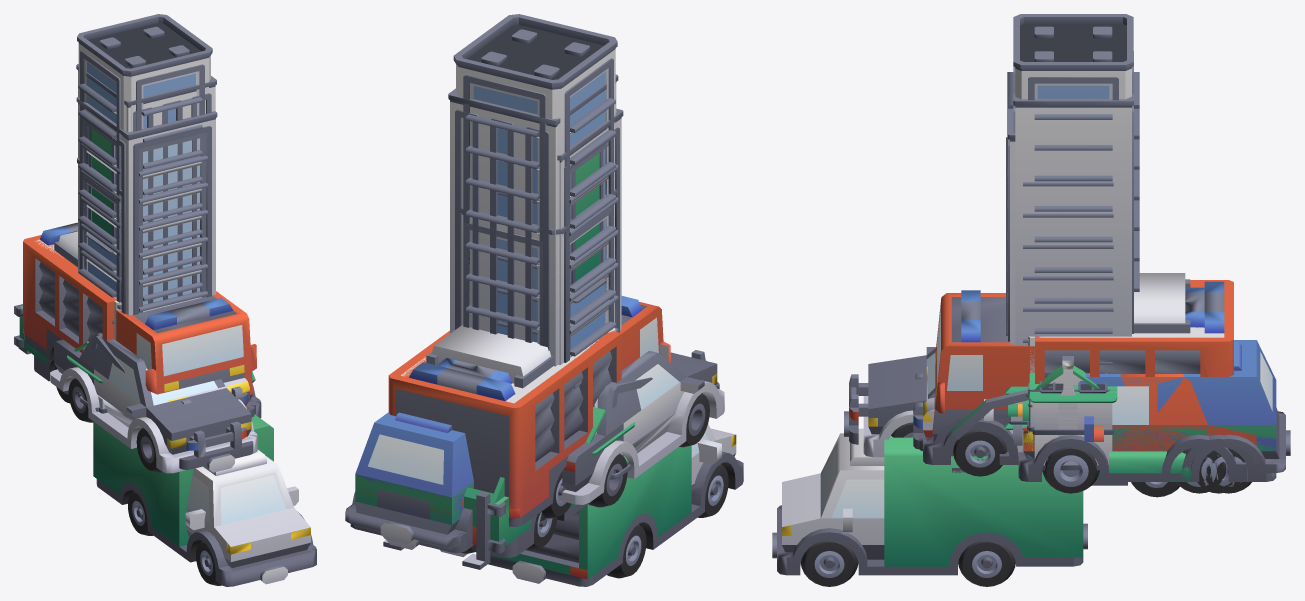
Rendered from city.glb.
The picture shows the model from 3 angles, left to right: view 1: azimuth 30°, elevation 25°; view 2: azimuth 150°, elevation 25°; view 3: azimuth 270°, elevation 25°; orthographic projection. The views are drawn at different scales.
Parts seen in each view (by area): view 1: delivery, firetruck, skyC, police, skyB, skyE, skyA, garbage, ambulance; view 2: skyB, firetruck, skyE, delivery, police, skyA, van, hatch, skyC, garbage, ambulance; view 3: delivery, skyE, firetruck, skyB, sedan, van, hatch, police, ambulance, skyC, houseB, skyA (+2 smaller).
Boxes of the visible parts, x1,y1,x2,y2 form: delivery: (93,414,316,586); firetruck: (23,222,261,418); skyC: (76,96,217,315); police: (50,333,257,473); skyB: (77,14,212,302); skyE: (76,64,216,303); skyA: (77,157,202,323); garbage: (14,304,255,403); ambulance: (34,230,255,414); skyB: (453,14,617,364); firetruck: (388,296,670,526); skyE: (448,74,618,366); delivery: (488,424,743,586); police: (558,350,724,507); skyA: (460,189,617,388); van: (350,412,473,552); hatch: (345,474,476,553); skyC: (497,108,623,364); garbage: (383,377,652,569); ambulance: (401,325,615,521); delivery: (772,428,1087,586); skyE: (1013,51,1133,345); firetruck: (913,279,1233,476); skyB: (1007,14,1139,211); sedan: (1018,374,1256,493); van: (1018,340,1276,493); hatch: (1018,407,1290,493); police: (844,347,935,457); ambulance: (918,273,1224,464); skyC: (1006,108,1113,344); houseB: (1028,373,1117,470); skyA: (1007,200,1139,364).
Size of the model in its own units: 2.1 by 5.98 by 5.34.
Materials: 11 (5 with a texture image).
